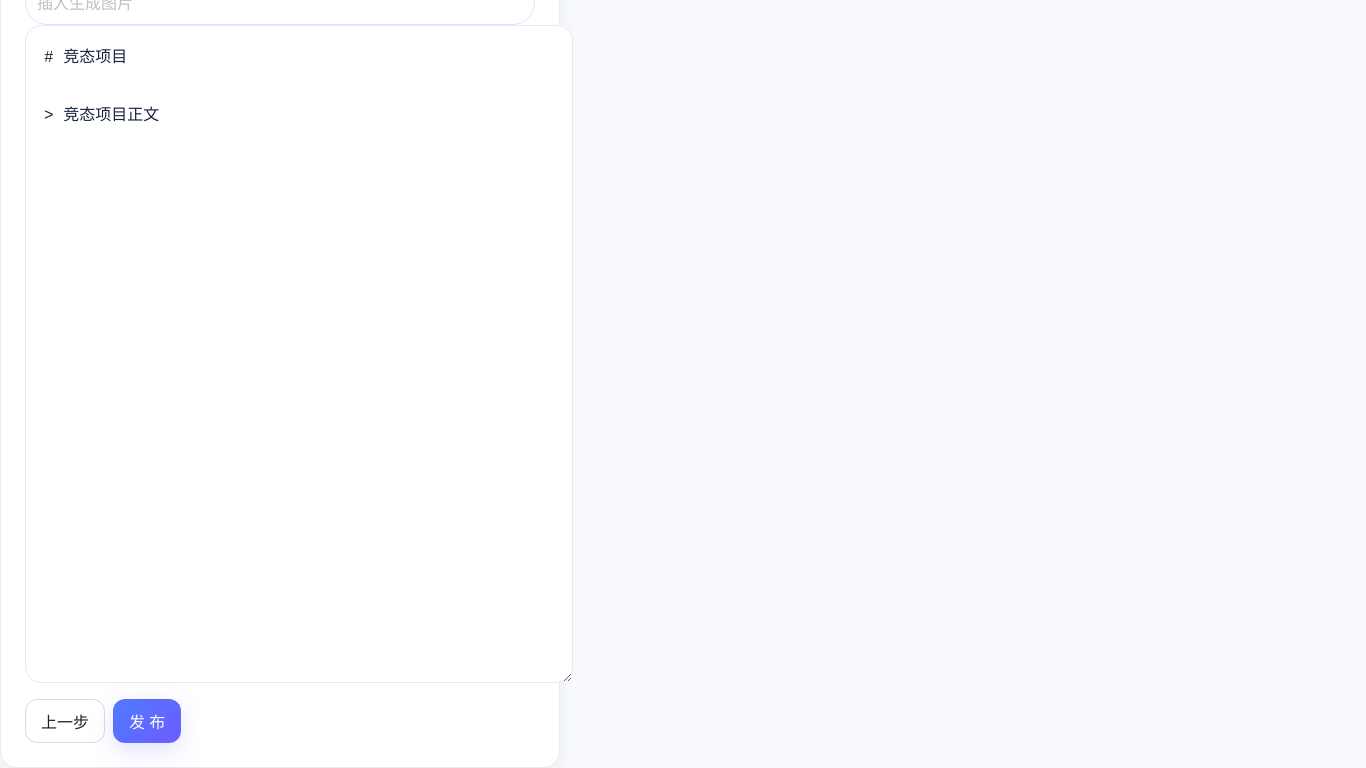
Test: Creator publishing › releases refresh loading when a newer retry fails before the old refresh finishes
This screenshot has width=1366, height=768.
(page scrolled)
Click the button "发 布" at (147, 721), box [113,699,181,743]
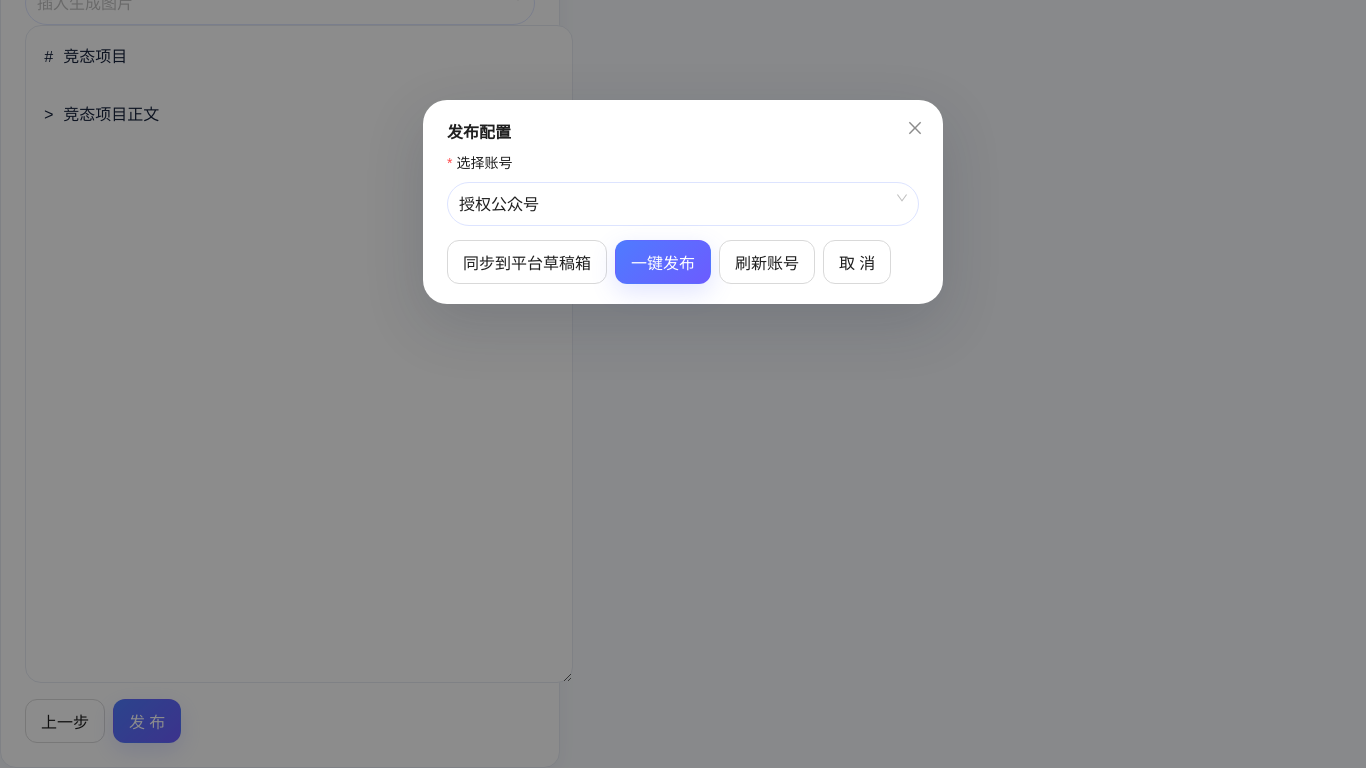
Click the button "一键发布" at (663, 262), box [615,240,711,284]
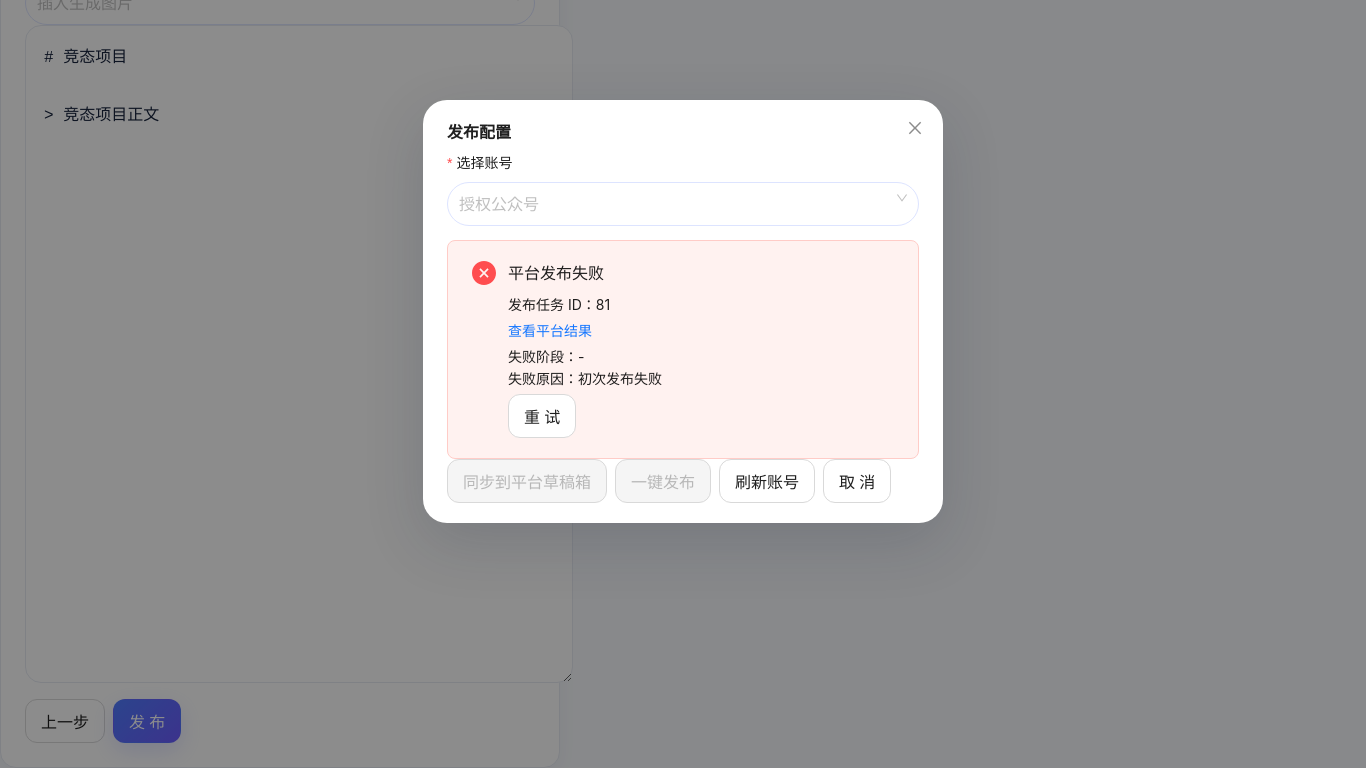
Result: the text "初次发布失败" is shown at [578,370,662,387]
Click the button "重 试" at (542, 416), box [508,394,576,438]
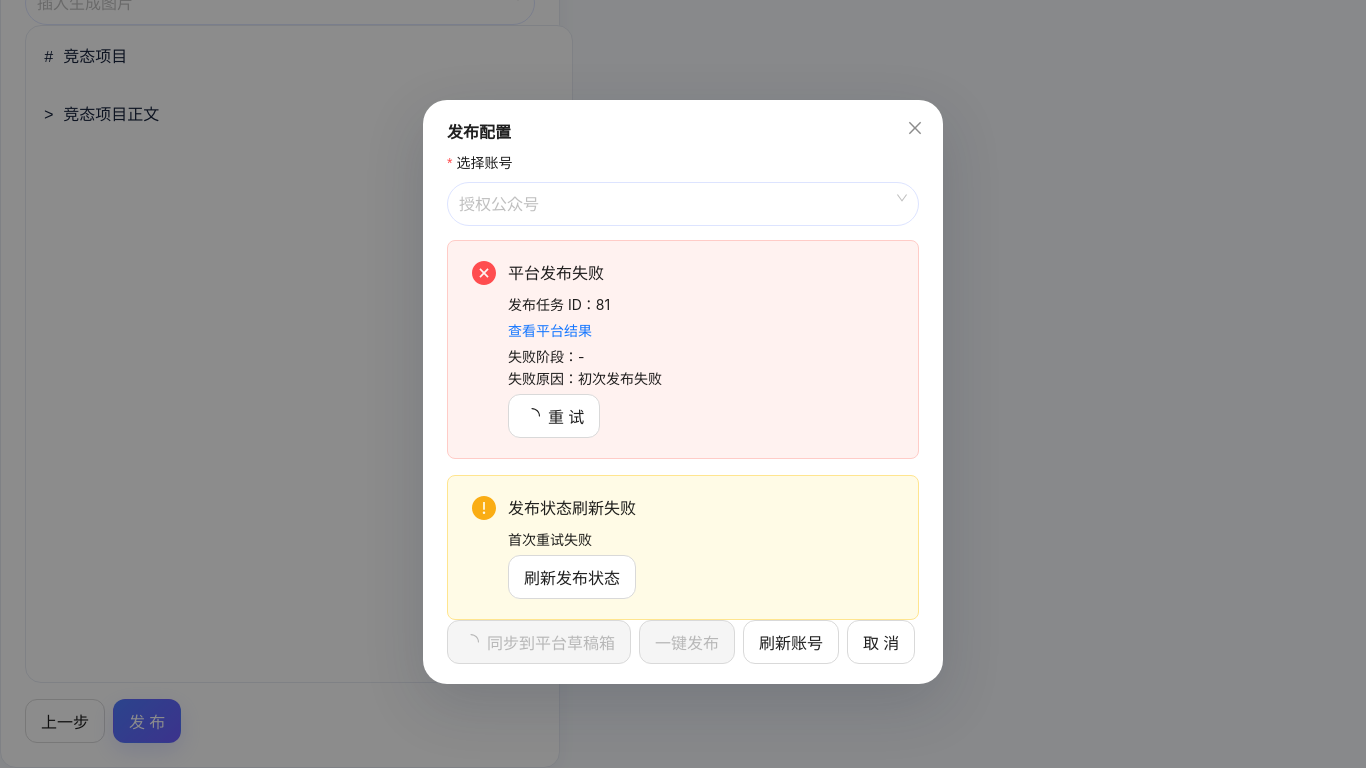
Result: the text "首次重试失败" is shown at [508,531,592,548]
Click the button "刷新发布状态" at (572, 577), box [508,555,636,599]
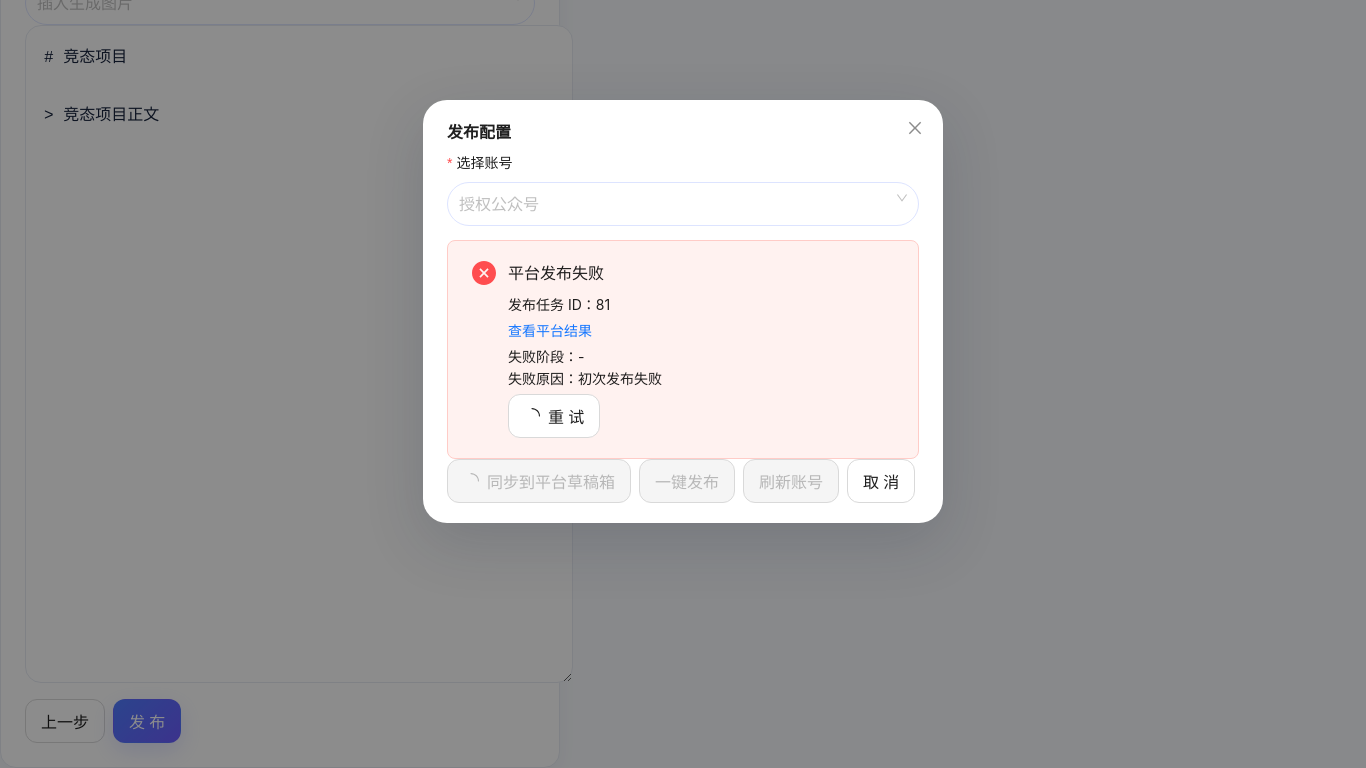
Click the button "重 试" at (554, 416), box [508,394,600,438]
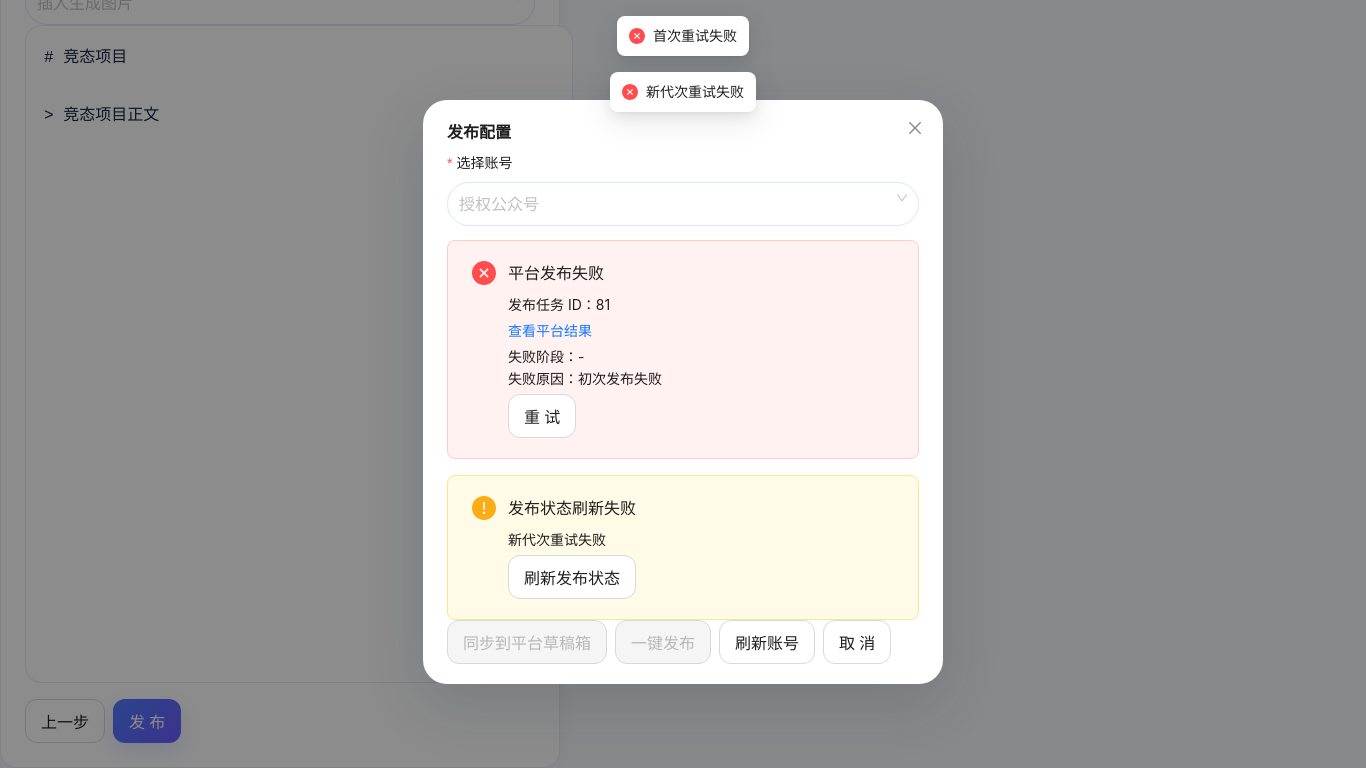
Result: the text "新代次重试失败" below "发布状态刷新失败" is shown at [508,531,606,548]
Result: the button "刷新发布状态" is enabled at [508,555,636,599]
